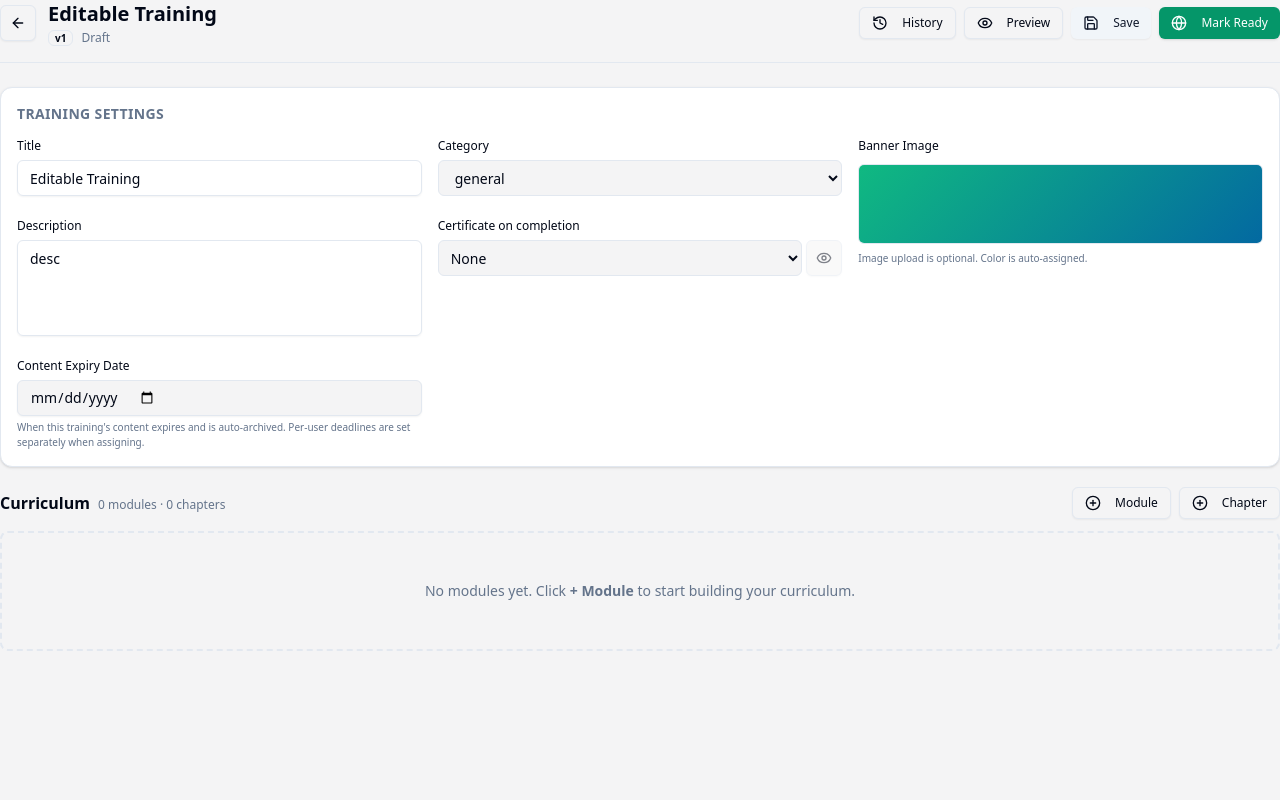
Test: ManagerTrainingEditor — Save metadata › refuses to save when there are zero chapters and opens the Cannot Save modal
The image size is (1280, 800).
Expected: the heading "Editable Training" is shown, [48,0,217,28]
Click the button "Save" at [1111, 23], box [1071,7,1151,39]
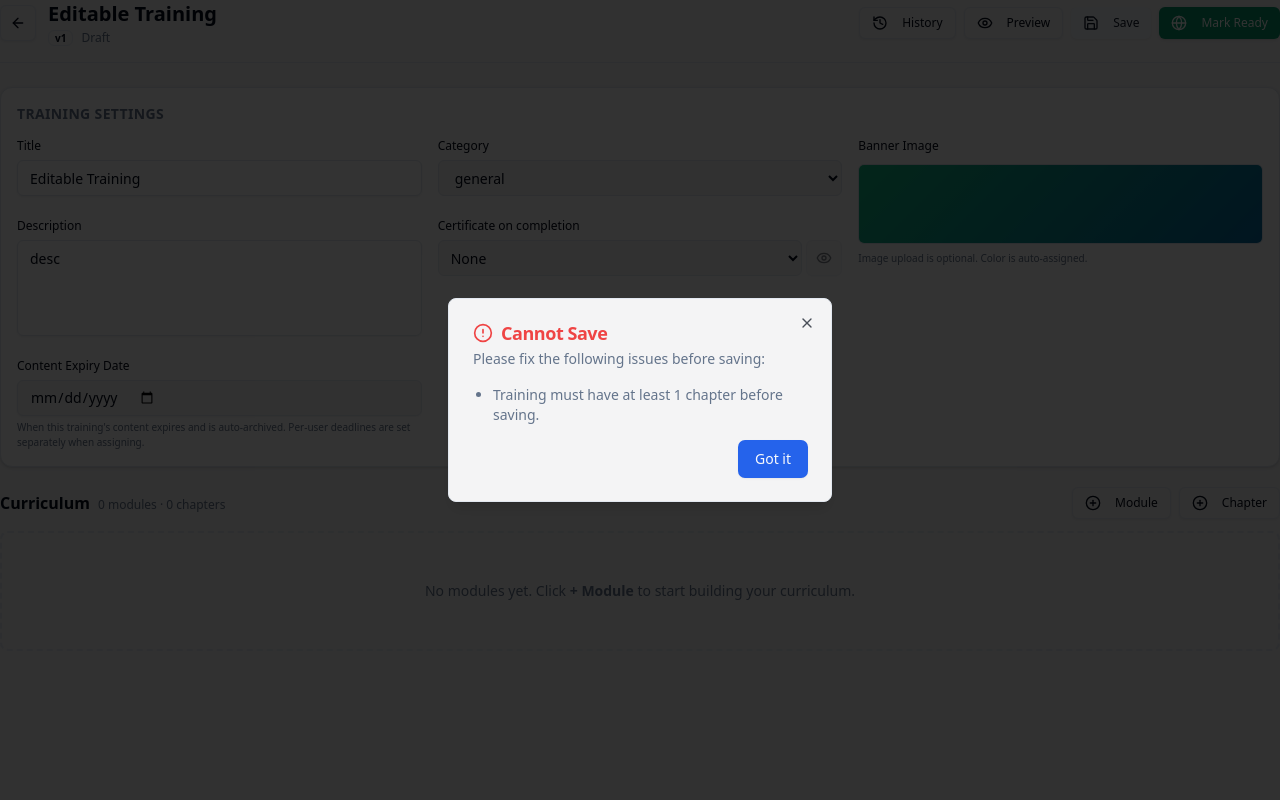
Now the heading "Cannot Save" is shown, box [473,321,607,345]
Now the list item "Training must have at least 1 chapter before saving." is shown, box [493,385,807,425]
